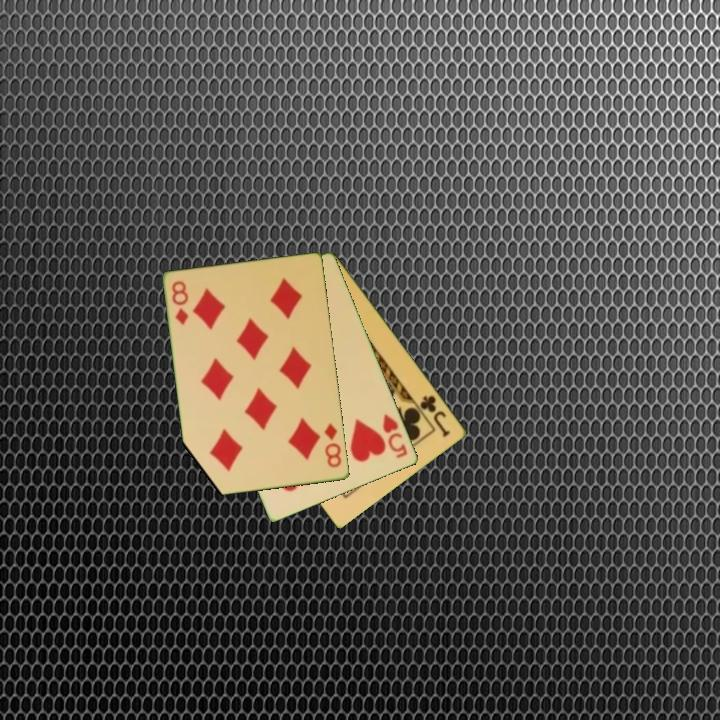5h: (379, 411, 411, 461)
8d: (321, 420, 345, 471), (168, 278, 191, 328)
Jc: (417, 392, 453, 440)
